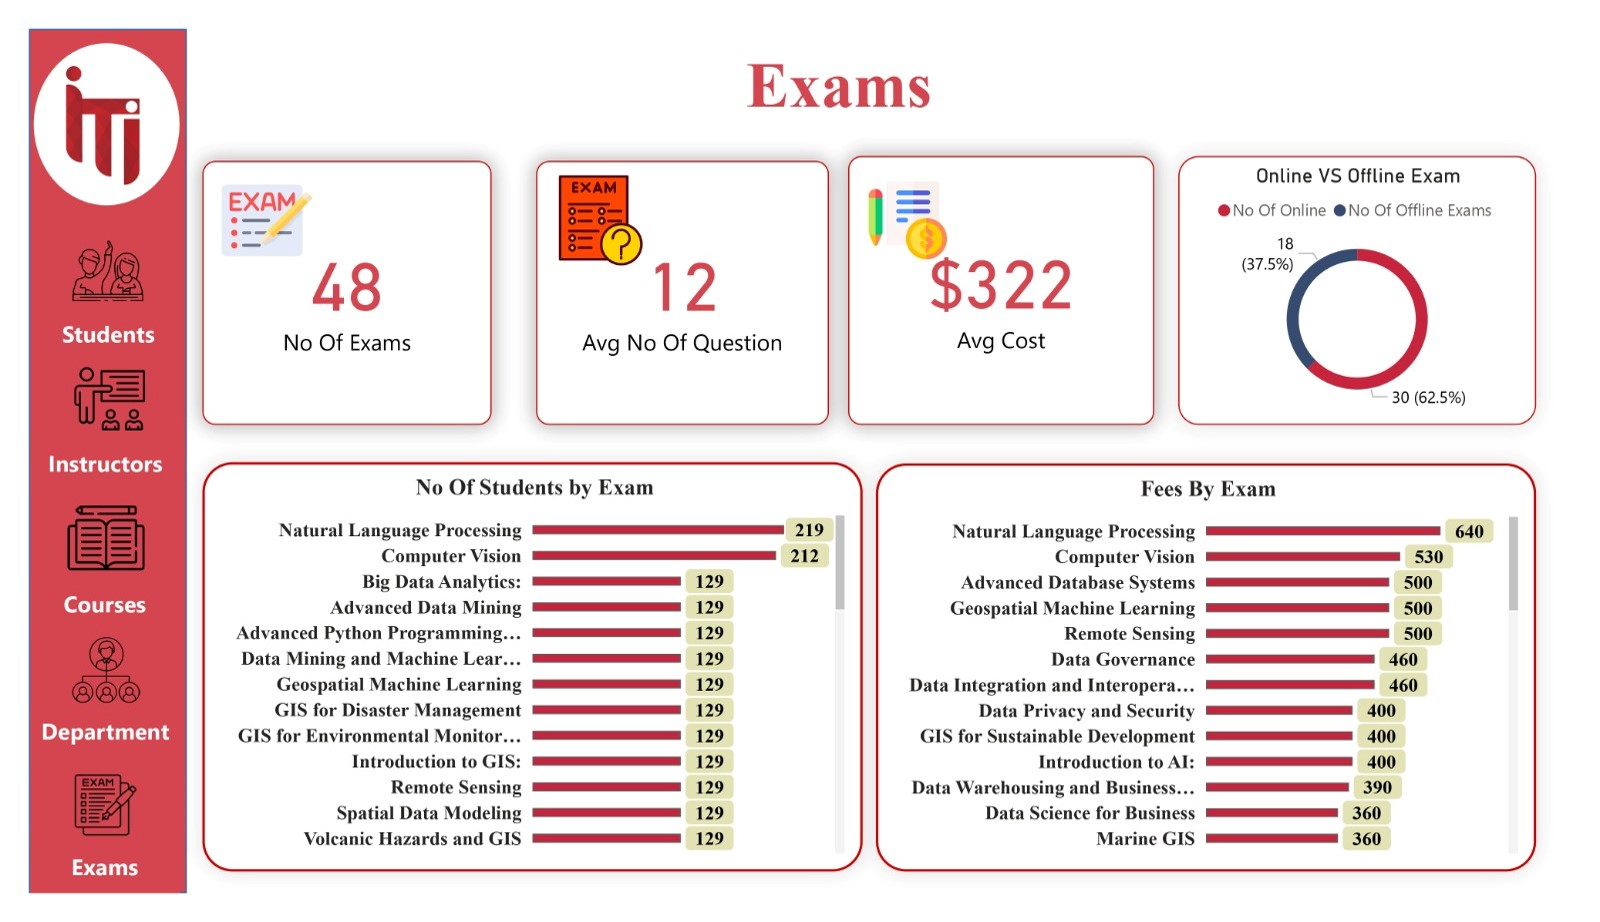

The page's visual inventory and layout, read from the dashboard file:
{"tool":"powerbi","page":{"name":"Exam","canvas":[1280,720],"ordinal":23},"visuals":[{"type":"textbox","box":[417.1,11.4,524.3,98.6],"z":0},{"type":"image","box":[7.2,272.1,119.5,72],"z":0,"group":"g1"},{"type":"shape","box":[0,0,131,720],"z":1000},{"type":"image","box":[5.7,167,121,69.1],"z":1000,"group":"g1"},{"type":"shape","box":[4.3,11.5,121,135.4],"z":2000},{"type":"textbox","box":[11.5,236.1,109.4,36],"z":2000,"group":"g1"},{"type":"image","box":[0,11.5,125.3,123.8],"z":3000},{"type":"textbox","box":[1.4,344.1,125.3,43.2],"z":3000,"group":"g1"},{"type":"card","fields":{"Values":["Measures (2).No Of Exam"]},"box":[144.3,110.1,239.7,220.1],"z":4000},{"type":"image","box":[1.4,387.3,125.3,73.4],"z":4000,"group":"g1"},{"type":"card","fields":{"Values":["Measures (2).Avg No Of Question"]},"box":[420.7,110.1,243.3,220.1],"z":5000},{"type":"image","box":[1.4,613.4,125.3,66.2],"z":5000,"group":"g1"},{"type":"card","fields":{"Values":["Measures (2).Avg Cost"]},"box":[679.9,106.4,254.3,223.8],"z":6000},{"type":"textbox","box":[1.4,460.8,123.8,43.2],"z":6000,"group":"g1"},{"type":"clusteredBarChart","title":"No Of Students by Exam","fields":{"Y":["Measures (2).No of Students"],"Category":["Dim_Exams.ExamName"]},"box":[144.3,360.7,547.8,341.2],"z":7000},{"type":"textbox","box":[1.4,679.6,123.8,40.3],"z":7000,"group":"g1"},{"type":"donutChart","title":"Online VS Offline Exam","fields":{"Y":["Measures (2).No Of Online","Measures (2).No Of OfFline"]},"box":[953.8,106.4,297.1,223.8],"z":8000},{"type":"image","box":[1.4,501.1,125.3,66.2],"z":8000,"group":"g1"},{"type":"image","box":[417,117.4,114.9,84.4],"z":9000},{"type":"textbox","box":[1.4,567.3,125.3,46.1],"z":9000,"group":"g1"},{"type":"image","box":[152.9,117.4,89.3,84.4],"z":10000},{"type":"image","box":[692.1,117.4,74.6,84.4],"z":11000},{"type":"clusteredBarChart","title":"Fees By Exam","fields":{"Y":["Sum(Dim_Exams.Fees)"],"Category":["Dim_Exams.ExamName"]},"box":[703.1,362,547.8,339.9],"z":12000},{"type":"group","id":"g1","title":"Group 1","box":[1.4,167,125.3,553],"z":13000}]}

Visuals, with their boxes in screenshot pixels (x1, y1, x2, y2), scaled from the page's 1280x720 canvas onto the 1600x922 screenshot:
textbox: select_region(521, 15, 1177, 141)
image: select_region(9, 348, 158, 441)
shape: select_region(0, 0, 164, 921)
image: select_region(7, 214, 158, 302)
shape: select_region(5, 15, 157, 188)
textbox: select_region(14, 302, 151, 348)
image: select_region(0, 15, 157, 173)
textbox: select_region(2, 441, 158, 496)
card - Measures (2).No Of Exam: select_region(180, 141, 480, 423)
image: select_region(2, 496, 158, 590)
card - Measures (2).Avg No Of Question: select_region(526, 141, 830, 423)
image: select_region(2, 785, 158, 870)
card - Measures (2).Avg Cost: select_region(850, 136, 1168, 423)
textbox: select_region(2, 590, 156, 645)
"No Of Students by Exam" clusteredBarChart: select_region(180, 462, 865, 899)
textbox: select_region(2, 870, 156, 921)
"Online VS Offline Exam" donutChart: select_region(1192, 136, 1564, 423)
image: select_region(2, 642, 158, 726)
image: select_region(521, 150, 665, 258)
textbox: select_region(2, 726, 158, 785)
image: select_region(191, 150, 303, 258)
image: select_region(865, 150, 958, 258)
"Fees By Exam" clusteredBarChart: select_region(879, 464, 1564, 899)
"Group 1" group: select_region(2, 214, 158, 921)
